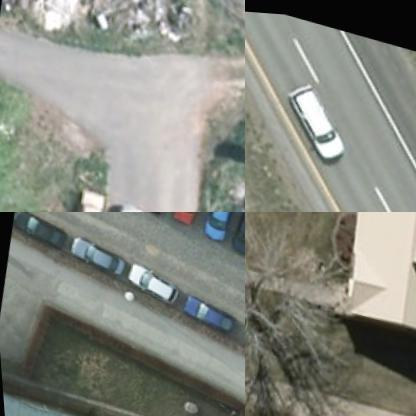car: (268, 68, 356, 166), (117, 258, 177, 302), (62, 234, 121, 278), (7, 212, 65, 253), (176, 294, 229, 332), (47, 179, 106, 211), (194, 212, 235, 243), (220, 212, 244, 258), (163, 212, 208, 229)
